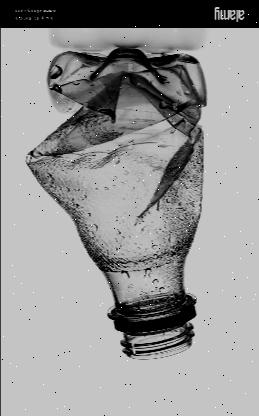Plastic Bottle: (25, 46, 207, 360)
